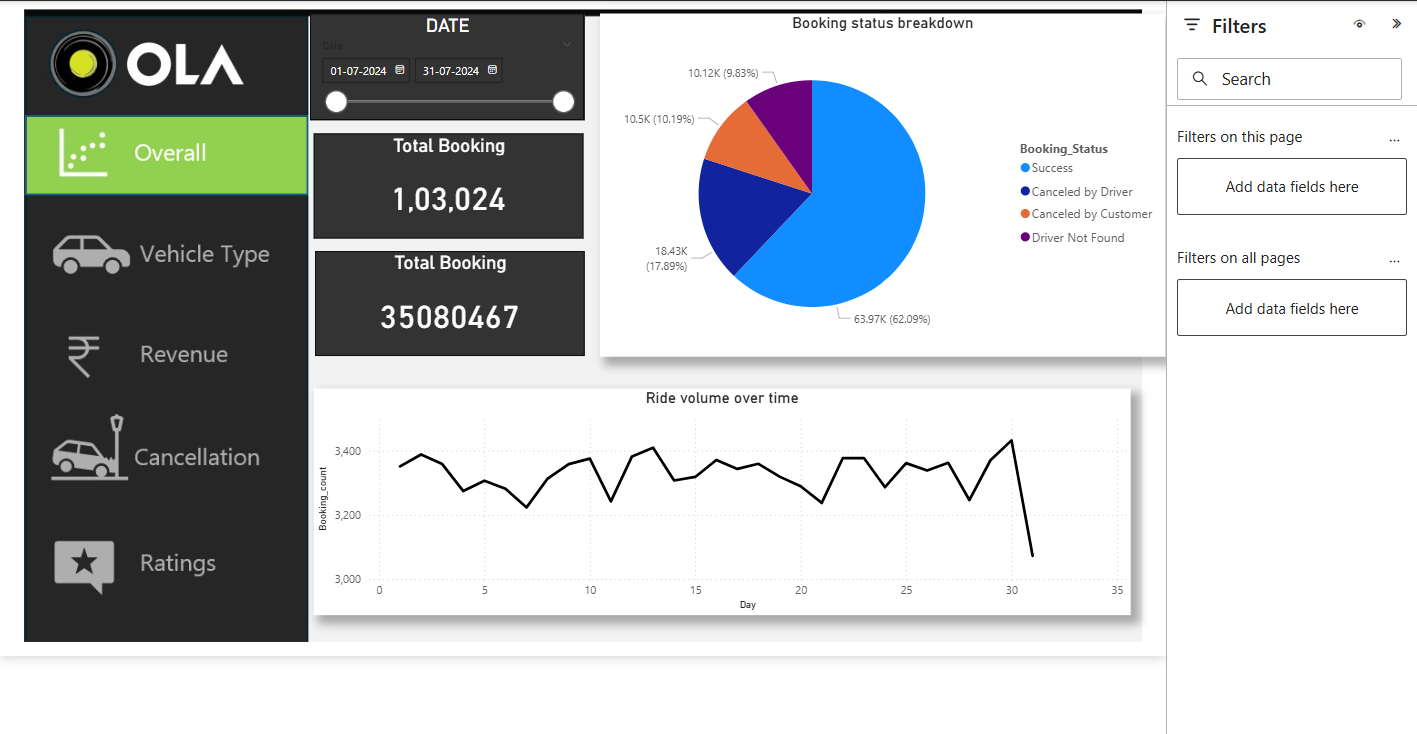

The dashboard page shown, as its layout file describes it:
{"tool":"powerbi","page":{"name":"overall","canvas":[1280,720],"ordinal":0},"visuals":[{"type":"lineChart","title":"Ride volume over time","fields":{"Y":["CountNonNull(Bookings OLA.Booking_ID)"],"Category":["Bookings OLA.Date.Variation.Date Hierarchy.Day"]},"box":[344.8,425.8,896.9,249.1],"z":0},{"type":"pieChart","title":"Booking status breakdown","fields":{"Category":["Bookings OLA.Booking_Status"],"Y":["CountNonNull(Bookings OLA.Booking_Status)"]},"box":[658.9,13.5,620.9,376.7],"z":1000},{"type":"slicer","title":"DATE","fields":{"Values":["Bookings OLA.Date"]},"box":[339.9,13.5,300.6,116.6],"z":2000},{"type":"card","title":"Total Booking","fields":{"Values":["CountNonNull(Bookings OLA.Booking_ID)"]},"box":[344.8,146,295.7,115.3],"z":3000},{"type":"card","title":"Total Booking","fields":{"Values":["Sum(Bookings OLA.Booking_Value)"]},"box":[346,274.8,295.7,115.3],"z":4000}]}

Visuals, with their boxes on the page's 1280x720 design canvas (x1, y1, x2, y2). These are canvas units, not pixel positions in the 1417x734 screenshot, which may show the page scaled, cropped or inside an application window:
"Ride volume over time" lineChart: select_region(345, 426, 1242, 675)
"Booking status breakdown" pieChart: select_region(659, 14, 1280, 390)
"DATE" slicer: select_region(340, 14, 640, 130)
"Total Booking" card: select_region(345, 146, 640, 261)
"Total Booking" card: select_region(346, 275, 642, 390)
